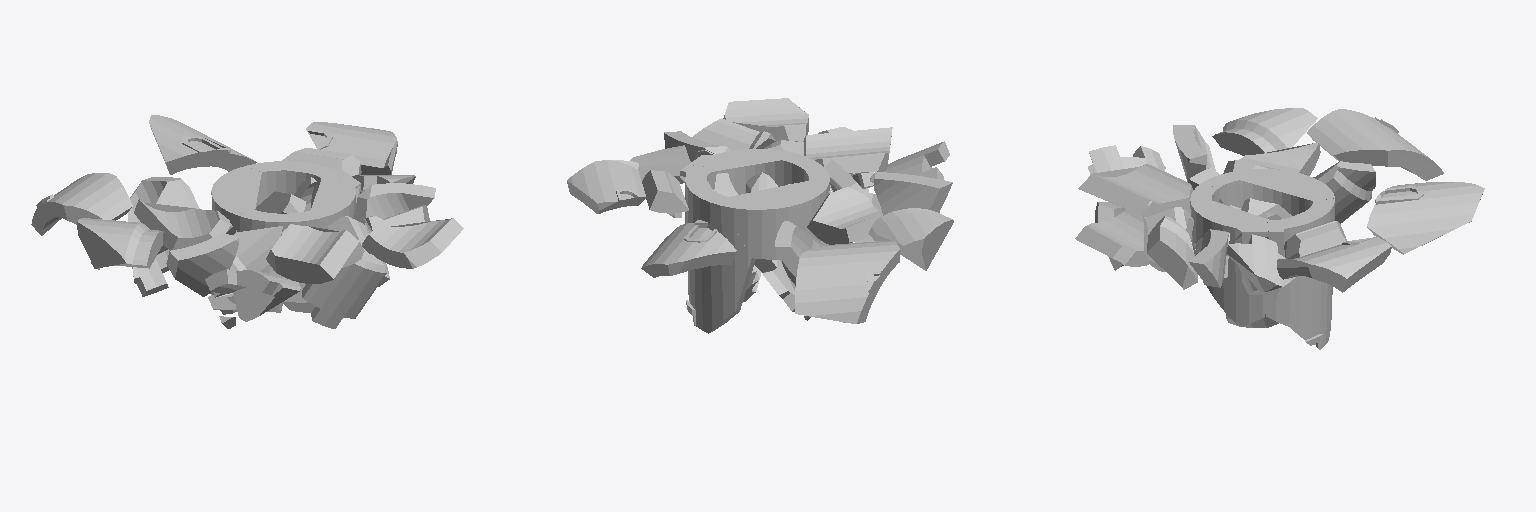
The model's file is destruction_tower_000071.obj.
3 views of the same model, side by side, from view 1: azimuth 30°, elevation 25°; view 2: azimuth 150°, elevation 25°; view 3: azimuth 270°, elevation 25° (orthographic).
Parts seen in each view (by area): view 1: tower.001_cell.024_Mesh.024, tower.001_cell.003_Mesh.003, tower.001_cell.011_Mesh.011, tower.001_cell.005_Mesh.005, tower.001_cell.021_Mesh.021, tower.001_cell.025_Mesh.025, tower.001_cell.012_Mesh.012, tower.001_cell.006_Mesh.006, tower.001_cell.009_Mesh.009, tower.001_cell.007_Mesh.007, tower.001_cell.002_Mesh.002, tower.001_cell.010_Mesh.010 (+10 smaller); view 2: tower.001_cell.003_Mesh.003, tower.001_cell.017_Mesh.017, tower.001_cell.015_Mesh.015, tower.001_cell.025_Mesh.025, tower.001_cell.012_Mesh.012, tower.001_cell.024_Mesh.024, tower.001_cell.005_Mesh.005, tower.001_cell.028_Mesh.028, tower.001_cell.009_Mesh.009, tower.001_cell.021_Mesh.021, tower.001_cell.002_Mesh.002, tower.001_cell_Mesh (+8 smaller); view 3: tower.001_cell.025_Mesh.025, tower.001_cell.003_Mesh.003, tower.001_cell.024_Mesh.024, tower.001_cell.017_Mesh.017, tower.001_cell.012_Mesh.012, tower.001_cell.005_Mesh.005, tower.001_cell.015_Mesh.015, tower.001_cell.021_Mesh.021, tower.001_cell.028_Mesh.028, tower.001_cell_Mesh, tower.001_cell.020_Mesh.020, tower.001_cell.007_Mesh.007 (+10 smaller).
Boxes of the visible parts, <box> form: tower.001_cell.024_Mesh.024: <box>266,224,359,283</box>; tower.001_cell.003_Mesh.003: <box>31,173,132,235</box>; tower.001_cell.011_Mesh.011: <box>302,252,386,328</box>; tower.001_cell.005_Mesh.005: <box>77,218,163,269</box>; tower.001_cell.021_Mesh.021: <box>362,218,463,268</box>; tower.001_cell.025_Mesh.025: <box>149,115,256,174</box>; tower.001_cell.012_Mesh.012: <box>306,122,397,174</box>; tower.001_cell.006_Mesh.006: <box>205,269,300,321</box>; tower.001_cell.009_Mesh.009: <box>134,199,232,250</box>; tower.001_cell.007_Mesh.007: <box>128,177,199,296</box>; tower.001_cell.002_Mesh.002: <box>166,232,238,296</box>; tower.001_cell.010_Mesh.010: <box>354,183,435,227</box>; tower.001_cell.003_Mesh.003: <box>795,241,899,323</box>; tower.001_cell.017_Mesh.017: <box>685,175,755,333</box>; tower.001_cell.015_Mesh.015: <box>724,181,827,259</box>; tower.001_cell.025_Mesh.025: <box>641,220,736,277</box>; tower.001_cell.012_Mesh.012: <box>567,160,646,213</box>; tower.001_cell.024_Mesh.024: <box>804,127,892,174</box>; tower.001_cell.005_Mesh.005: <box>868,208,953,270</box>; tower.001_cell.028_Mesh.028: <box>701,149,817,194</box>; tower.001_cell.009_Mesh.009: <box>807,187,880,244</box>; tower.001_cell.021_Mesh.021: <box>723,98,808,141</box>; tower.001_cell.002_Mesh.002: <box>874,172,952,215</box>; tower.001_cell_Mesh: <box>692,118,775,150</box>; tower.001_cell.025_Mesh.025: <box>1367,182,1484,254</box>; tower.001_cell.003_Mesh.003: <box>1307,109,1443,180</box>; tower.001_cell.024_Mesh.024: <box>1078,164,1193,216</box>; tower.001_cell.017_Mesh.017: <box>1289,198,1334,349</box>; tower.001_cell.012_Mesh.012: <box>1277,237,1391,292</box>; tower.001_cell.005_Mesh.005: <box>1212,108,1317,155</box>; tower.001_cell.015_Mesh.015: <box>1240,169,1334,215</box>; tower.001_cell.021_Mesh.021: <box>1075,207,1148,266</box>; tower.001_cell.028_Mesh.028: <box>1190,185,1269,255</box>; tower.001_cell_Mesh: <box>1147,216,1197,289</box>; tower.001_cell.020_Mesh.020: <box>1207,227,1268,325</box>; tower.001_cell.007_Mesh.007: <box>1313,161,1375,223</box>.
Size of the model in its own units: 114 by 44.56 by 121.